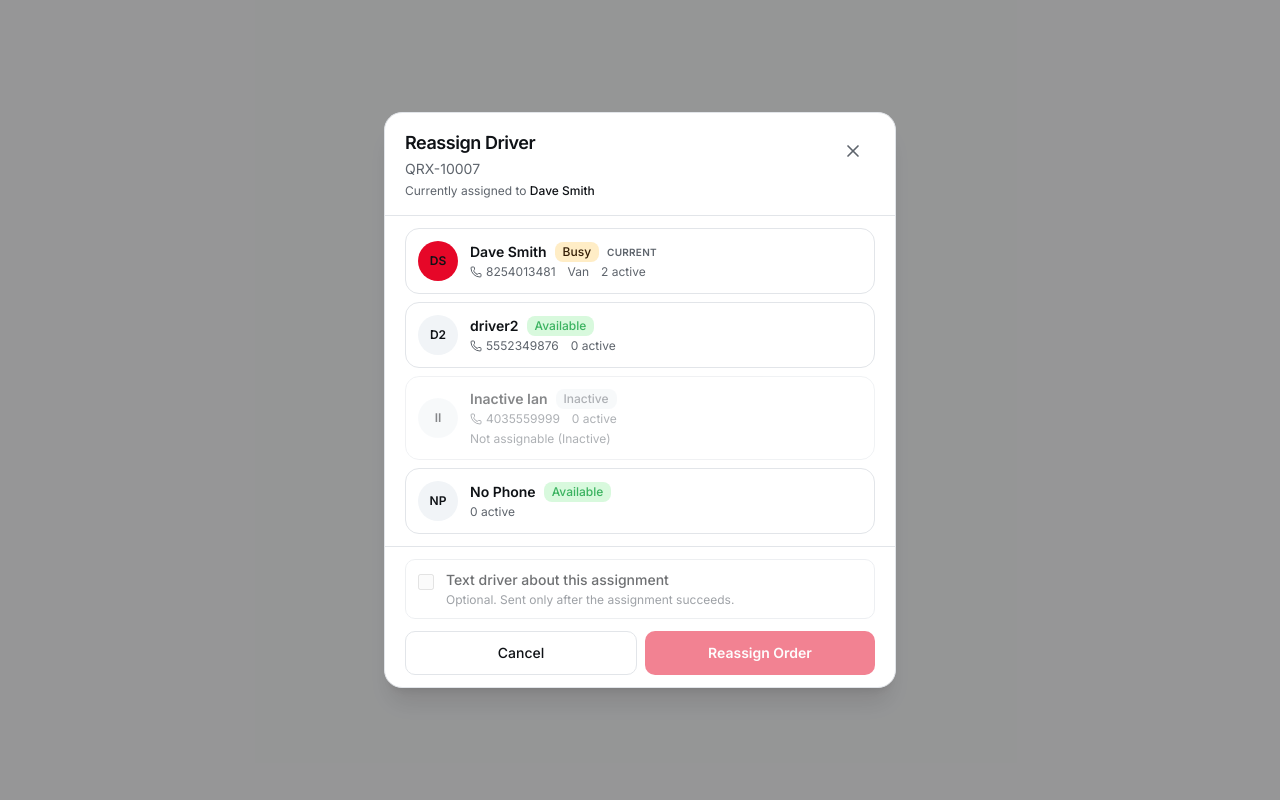
Test: AssignDriverDialog › defaults SMS on for reassignment and distinguishes SMS failure
The width and height of the screenshot is (1280, 800).
Expected: the heading "Reassign Driver" is shown, [405, 132, 535, 153]
Expected: the text "Currently assigned to Dave Smith" is shown, [405, 183, 595, 199]
Step 1. Click the option "D2 driver2 Available 5552349876 0 active" → (438, 335), box [405, 302, 875, 368]
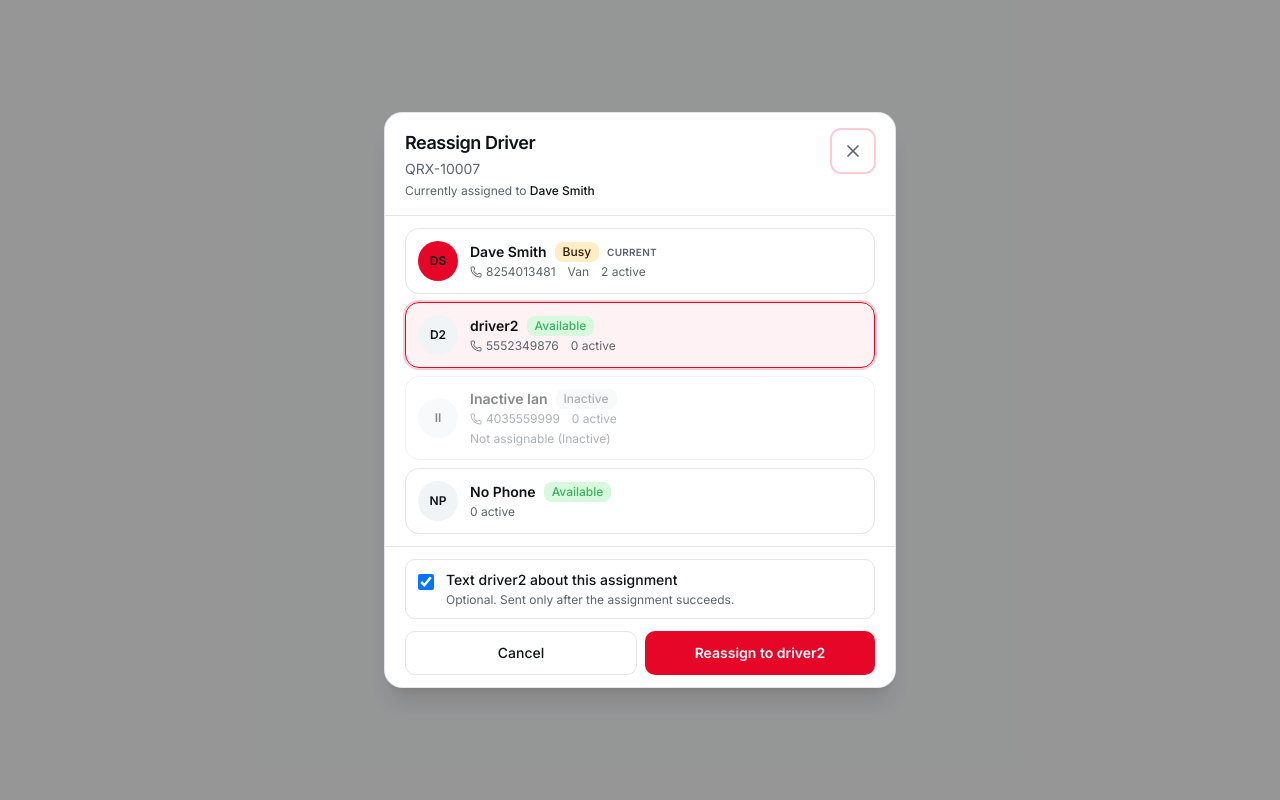
Now the checkbox is checked
Step 2. Click the checkbox → (426, 582), box [418, 574, 434, 590]
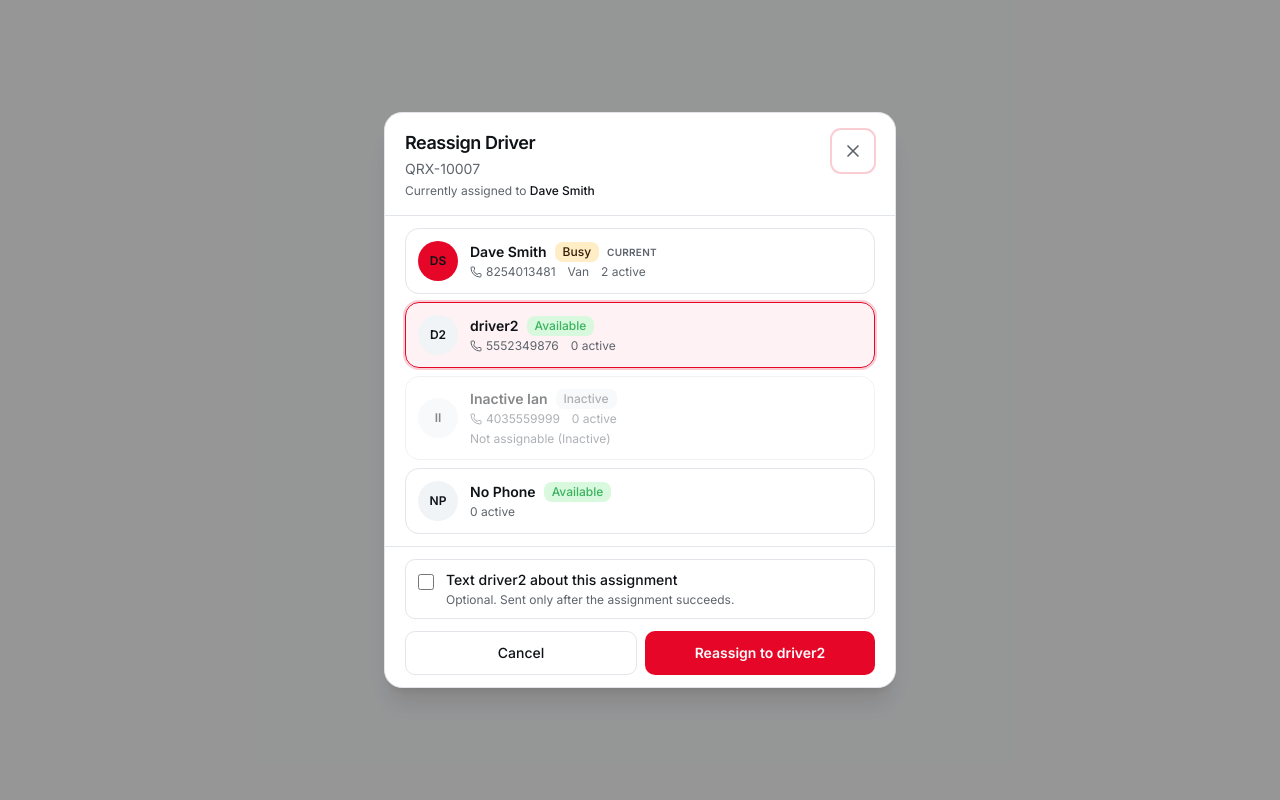
Now the checkbox is not checked
Step 3. Click the checkbox → (426, 582), box [418, 574, 434, 590]
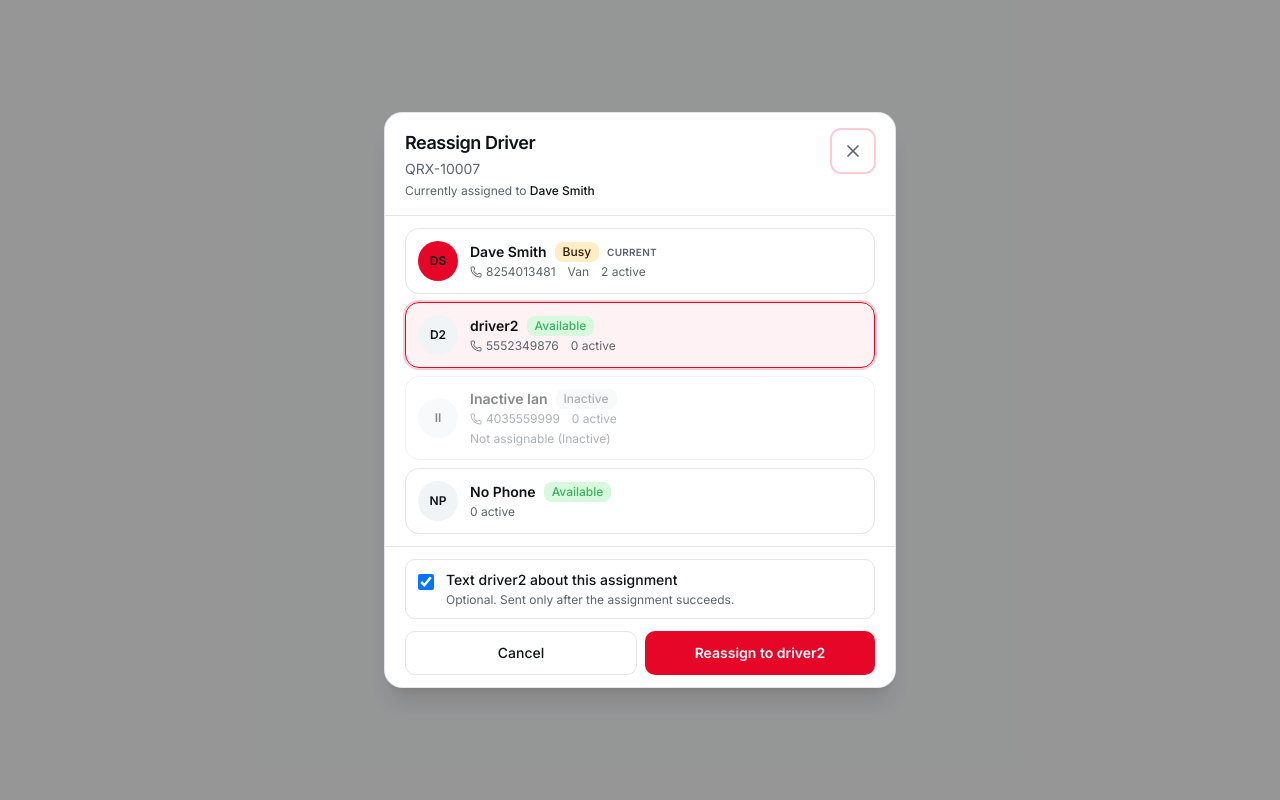
Now the checkbox is checked, box [418, 574, 434, 590]
Step 4. Click the button "Reassign to driver2" → (760, 653), box [645, 631, 875, 675]
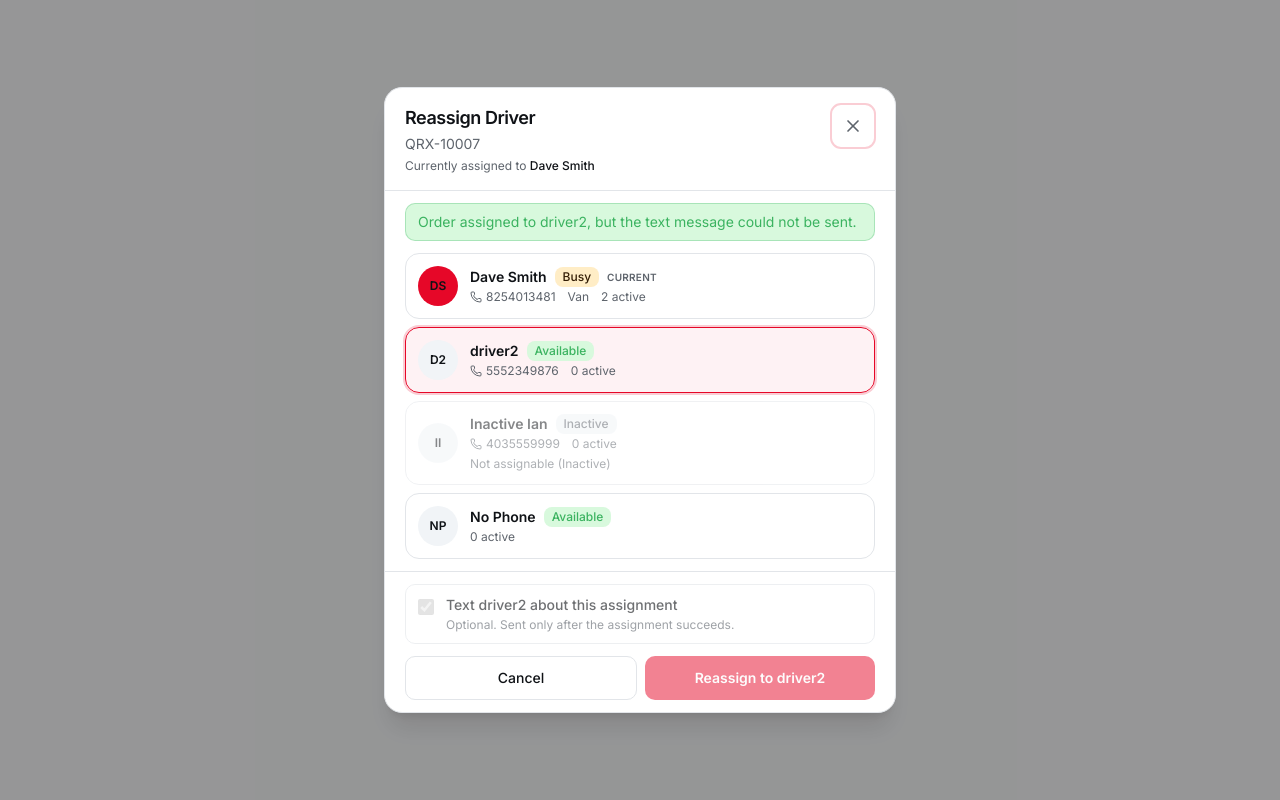
Now the text "Order assigned to driver2, but the text message could not be sent." is shown, box [405, 203, 875, 241]
